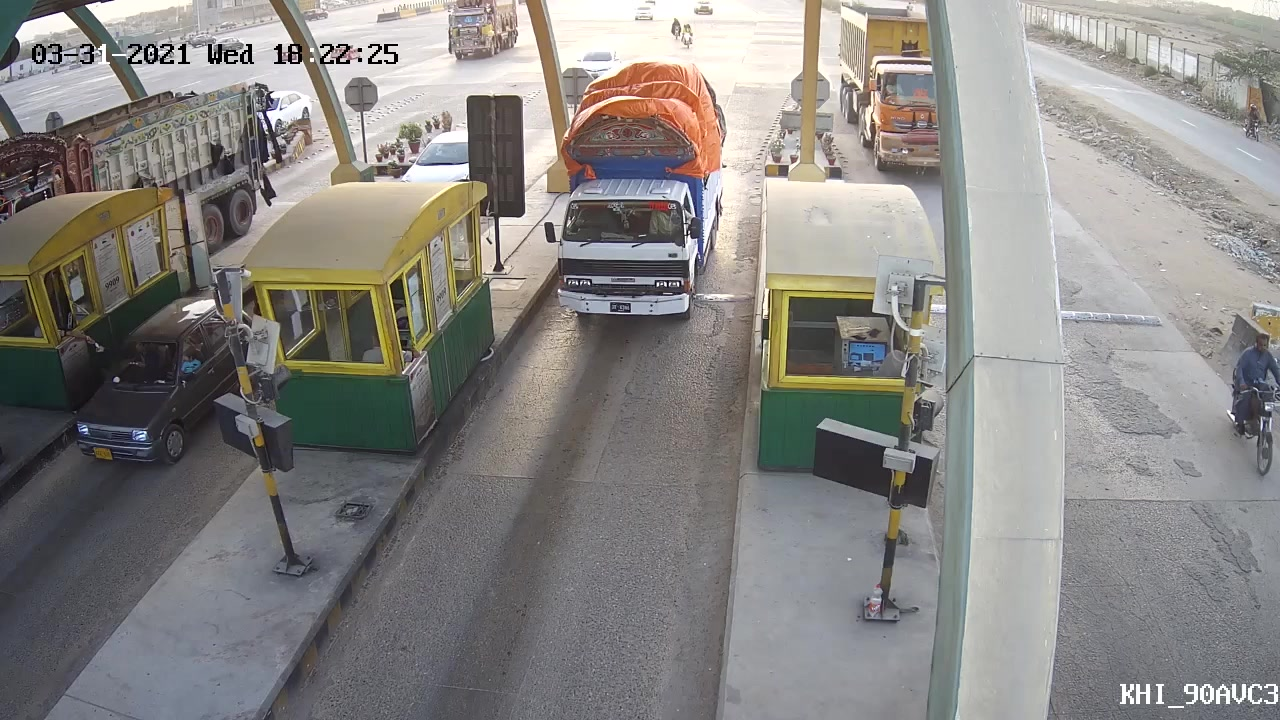F5: (539, 61, 737, 328)
